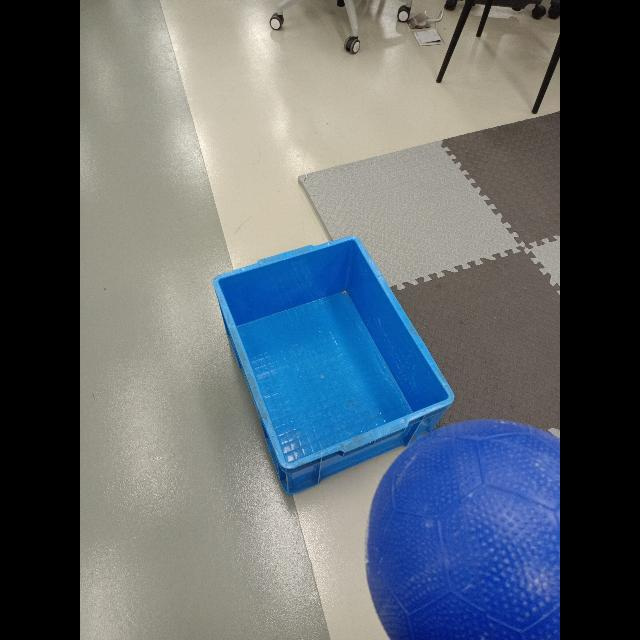B: (364, 422, 560, 640)
